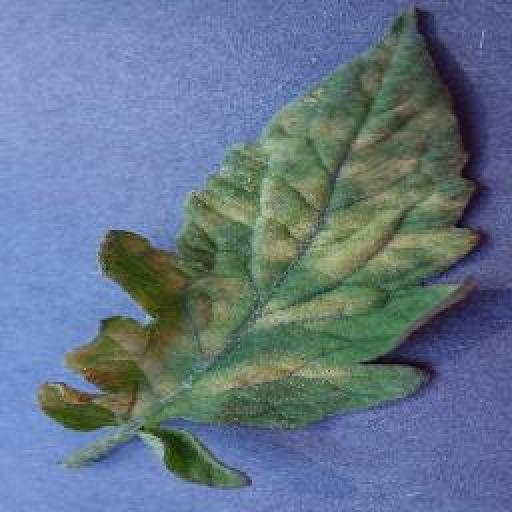Leaf Mold: (36, 0, 487, 428)
